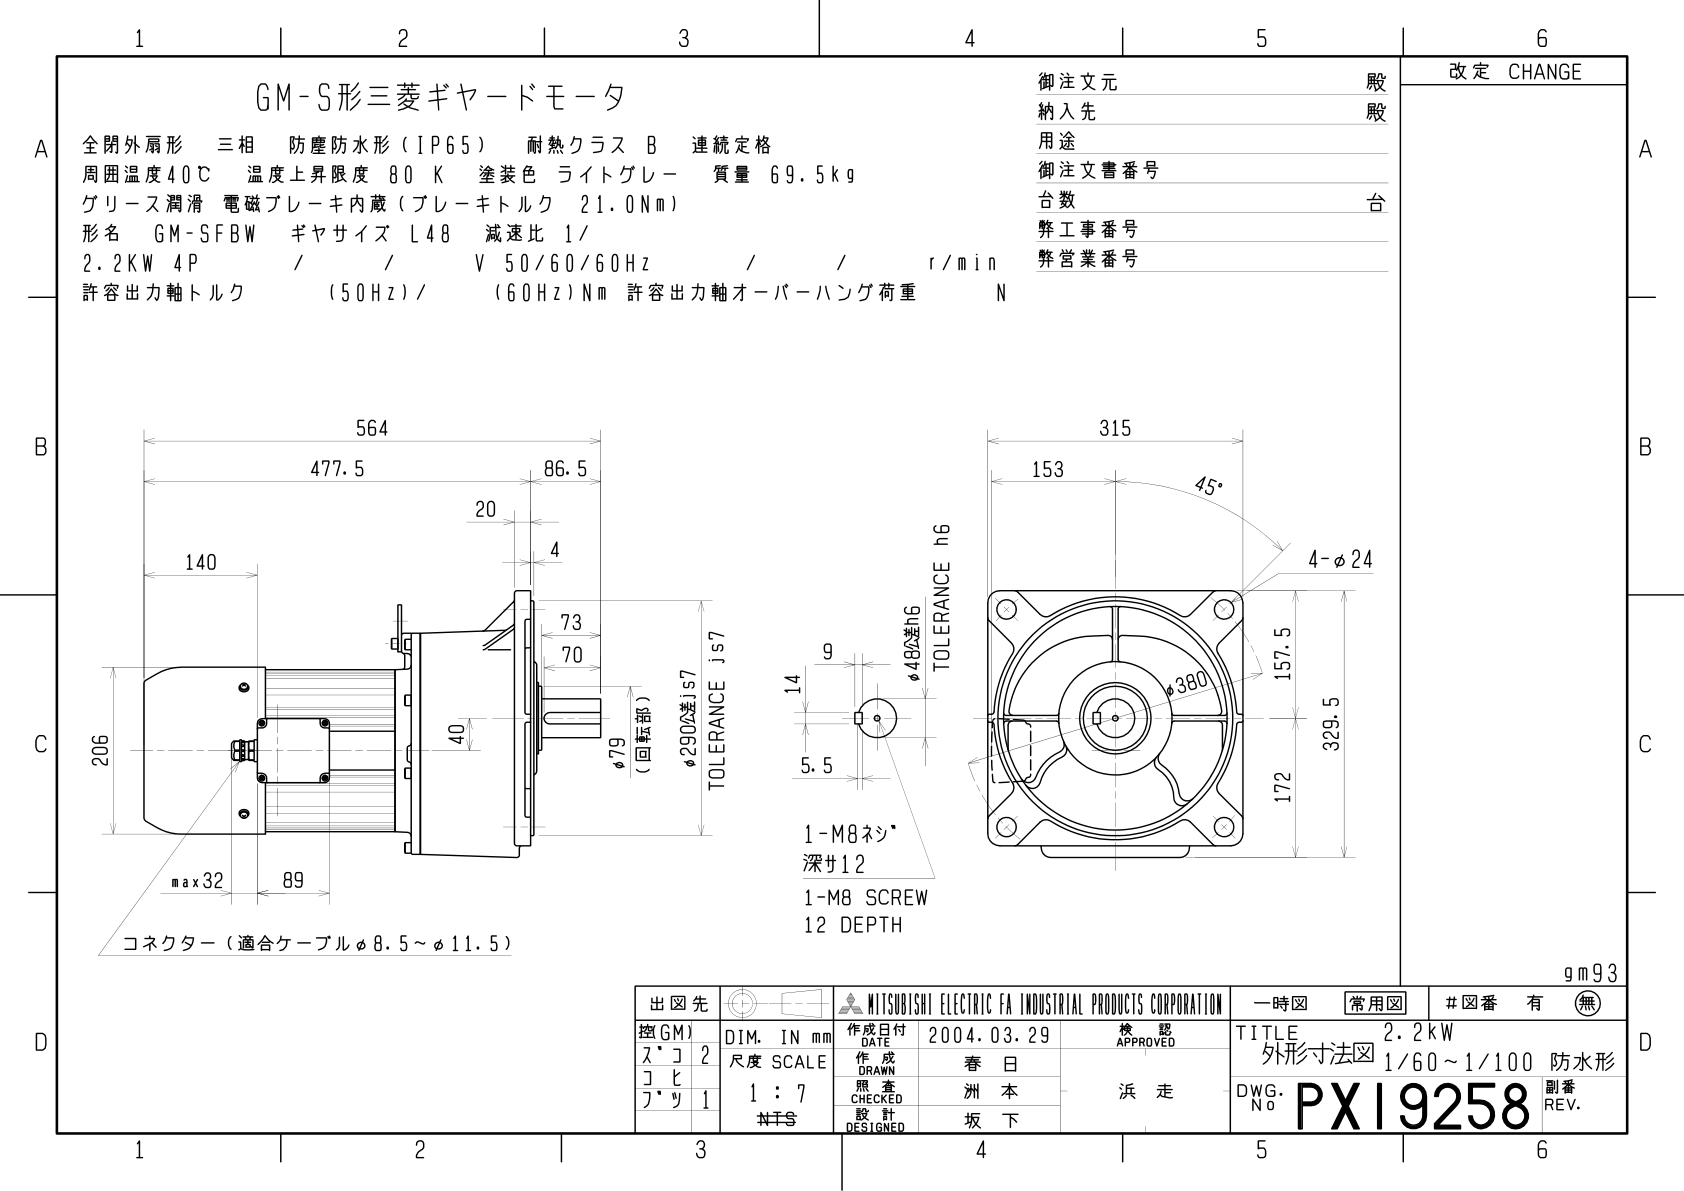GM_S_IP65＿三相_フランジ: (4, 5, 1684, 1191)
